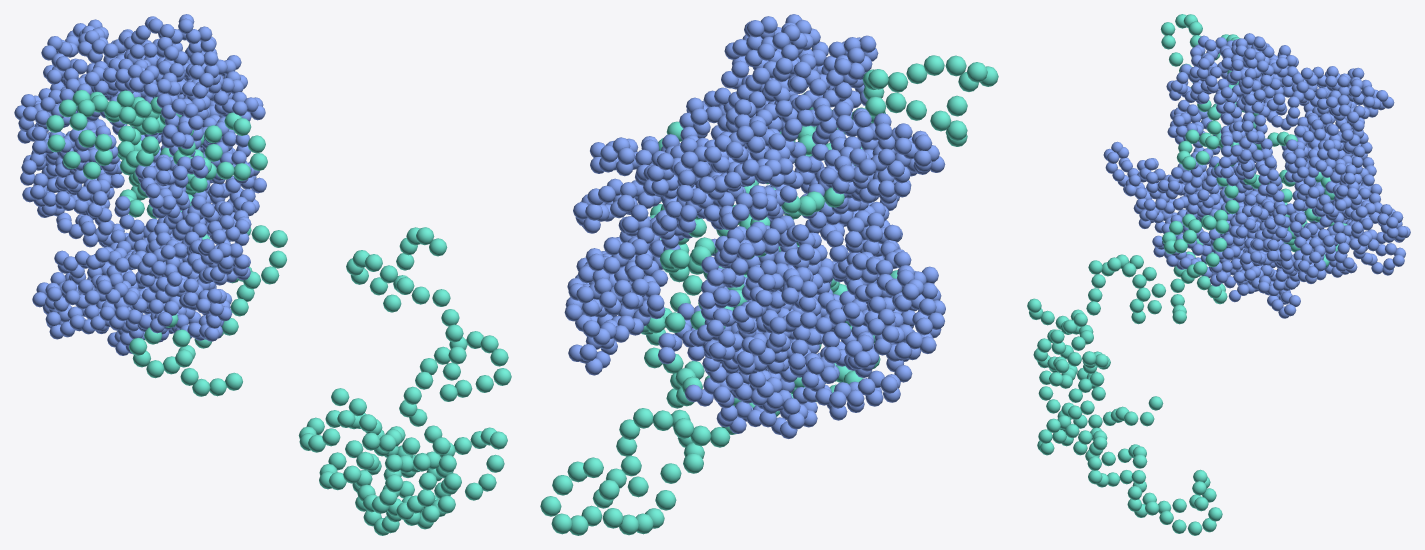
Rendered from hero-molecule.glb.
3 views of the same model, side by side, from view 1: azimuth 30°, elevation 25°; view 2: azimuth 150°, elevation 25°; view 3: azimuth 270°, elevation 25° (orthographic). The views are drawn at different scales.
Parts seen in each view (by area): view 1: protein, nucleic; view 2: protein, nucleic; view 3: protein, nucleic.
Part boxes in pixels (x1,y1,x2,y2): protein: (14,14,266,355); nucleic: (46,90,511,535); protein: (564,14,945,438); nucleic: (540,55,998,535); protein: (1103,33,1410,318); nucleic: (1027,14,1347,535).
Size of the model in its own units: 3.04 by 4.12 by 3.45.
